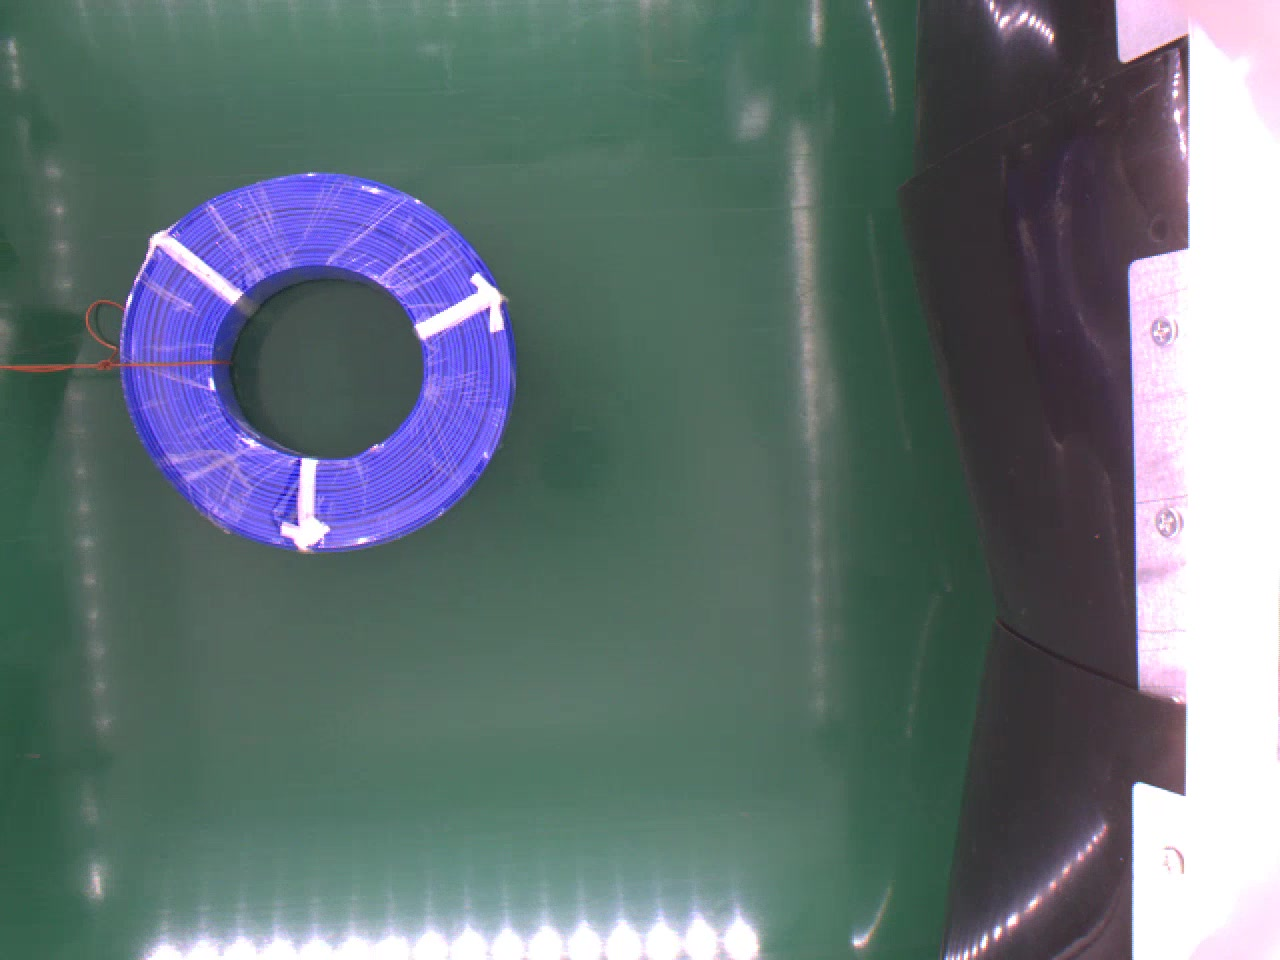blue: (116, 174, 509, 546)
